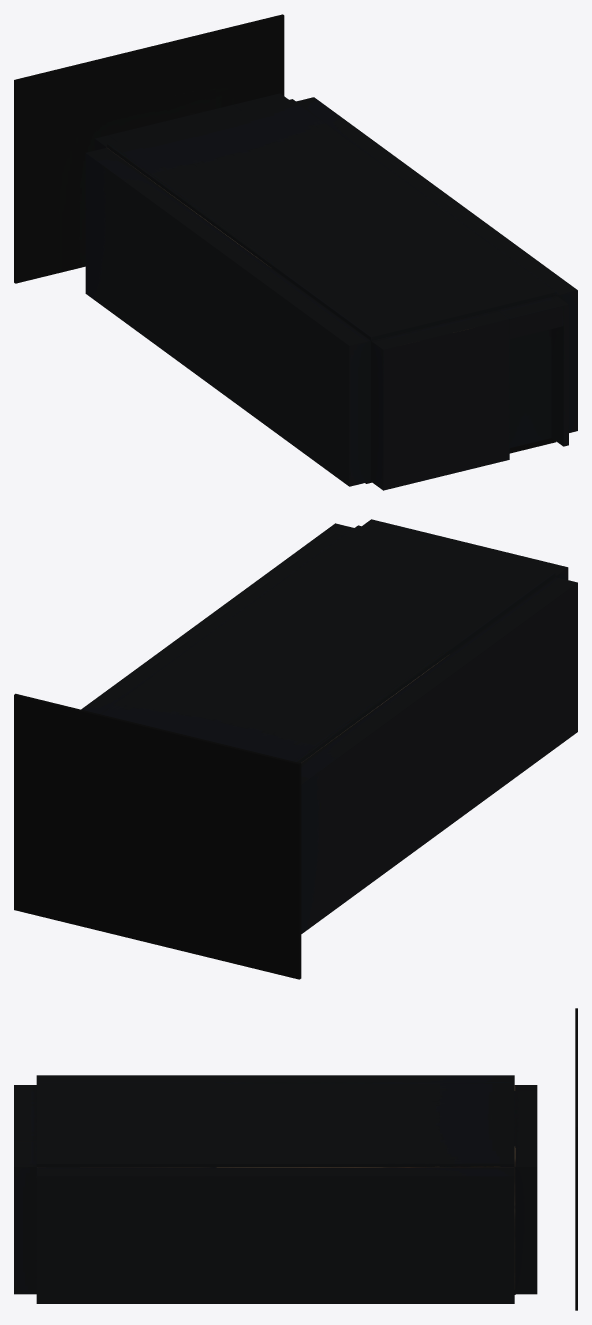
Rendered from flat-baked.glb.
The picture shows the model from 3 angles, top to bottom: view 1: azimuth 30°, elevation 25°; view 2: azimuth 150°, elevation 25°; view 3: azimuth 270°, elevation 25°; orthographic projection. The views are drawn at different scales.
Parts seen in each view (by area): view 1: flat_shell, flat_ceiling, flat_exterior, flat_trim, flat_doors; view 2: flat_exterior, flat_shell, flat_ceiling, flat_trim; view 3: flat_shell, flat_ceiling, flat_trim, flat_exterior.
Part boxes in pixels (<box>): flat_shell: <box>85,93,577,486</box>; flat_ceiling: <box>107,99,556,340</box>; flat_exterior: <box>14,14,284,283</box>; flat_trim: <box>109,104,568,490</box>; flat_doors: <box>509,329,551,447</box>; flat_exterior: <box>14,693,301,979</box>; flat_shell: <box>81,523,577,933</box>; flat_ceiling: <box>100,525,555,763</box>; flat_trim: <box>362,519,568,579</box>; flat_shell: <box>36,1075,537,1303</box>; flat_ceiling: <box>36,1082,514,1166</box>; flat_trim: <box>14,1085,537,1294</box>; flat_exterior: <box>575,1008,577,1310</box>.
Size of the model in its own units: 5 by 3.61 by 10.03.
18 materials, 18 textured.
